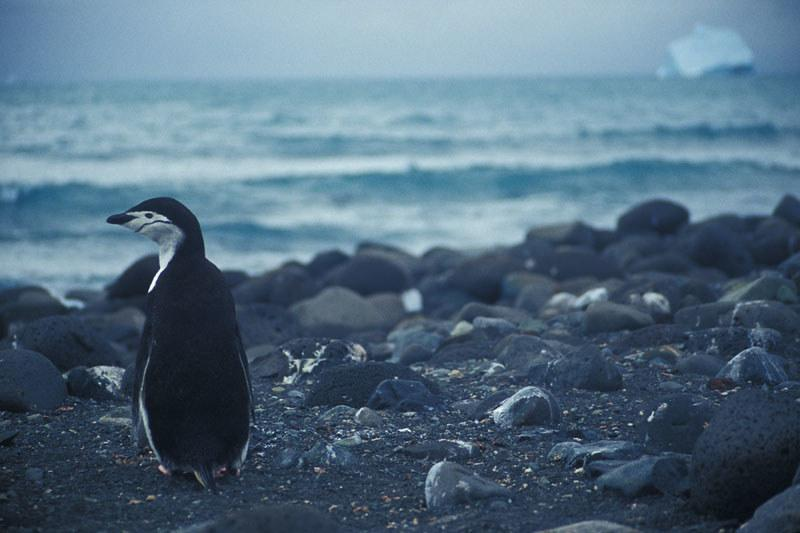chinstrap: (110, 175, 264, 471)
